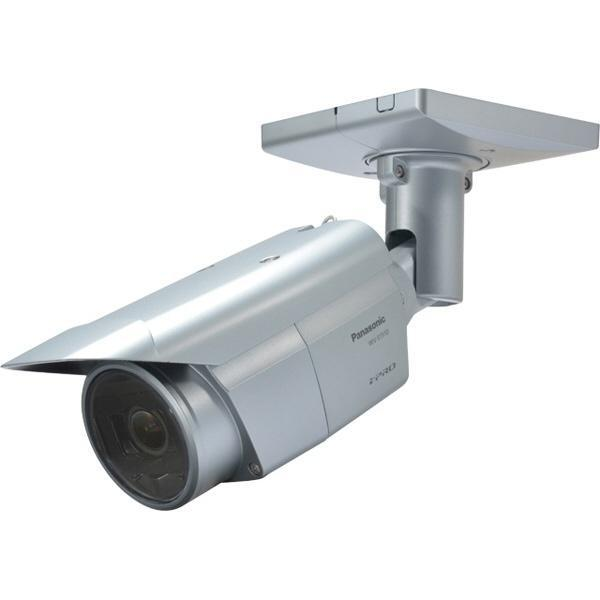tutu: (0, 87, 596, 510)
